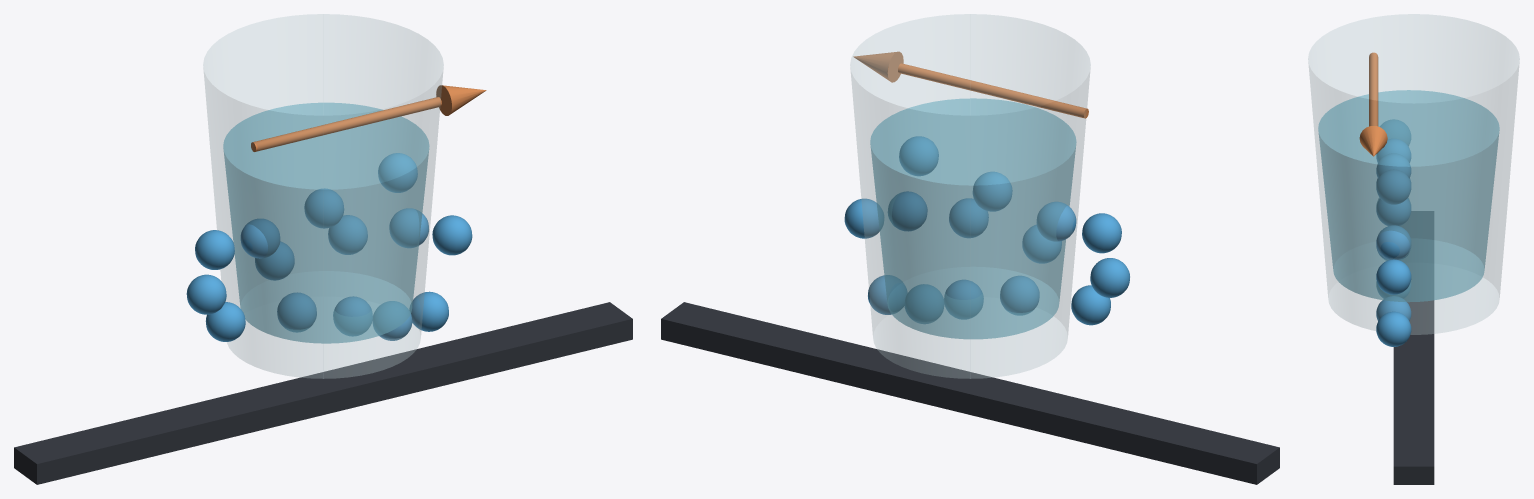
The model's file is chem-states-liquid.glb.
3 renders of one model, left to right at view 1: azimuth 30°, elevation 25°; view 2: azimuth 150°, elevation 25°; view 3: azimuth 270°, elevation 25°, orthographic. The views are drawn at different scales.
Visible parts, largest first — view 1: liquid-container-shape-glass, liquid-container-shape-liquid, states-lab-bench, sliding-motion-flow-arrow-shaft, close-sliding-liquid-particle-9, close-sliding-liquid-particle-5, close-sliding-liquid-particle-11, close-sliding-liquid-particle-10, close-sliding-liquid-particle-12, close-sliding-liquid-particle-8, close-sliding-liquid-particle-13, close-sliding-liquid-particle-1 (+7 smaller); view 2: liquid-container-shape-glass, liquid-container-shape-liquid, states-lab-bench, sliding-motion-flow-arrow-shaft, close-sliding-liquid-particle-10, close-sliding-liquid-particle-11, close-sliding-liquid-particle-5, close-sliding-liquid-particle-13, close-sliding-liquid-particle-12, close-sliding-liquid-particle-9, close-sliding-liquid-particle-1, close-sliding-liquid-particle-8 (+7 smaller); view 3: liquid-container-shape-glass, liquid-container-shape-liquid, states-lab-bench, close-sliding-liquid-particle-4, close-sliding-liquid-particle-9, close-sliding-liquid-particle-13, close-sliding-liquid-particle-8, close-sliding-liquid-particle-7, sliding-motion-flow-arrow-shaft, sliding-motion-flow-arrow-head, close-sliding-liquid-particle-12, close-sliding-liquid-particle-3 (+2 smaller).
Boxes of the visible parts, x1,y1,x2,y2 form: liquid-container-shape-glass: (203,14,443,378); liquid-container-shape-liquid: (223,102,429,343); states-lab-bench: (14,302,632,484); sliding-motion-flow-arrow-shaft: (251,97,441,151); close-sliding-liquid-particle-9: (432,215,472,255); close-sliding-liquid-particle-5: (186,274,226,314); close-sliding-liquid-particle-11: (240,218,280,258); close-sliding-liquid-particle-10: (195,230,234,269); close-sliding-liquid-particle-12: (304,188,344,228); close-sliding-liquid-particle-8: (389,208,428,248); close-sliding-liquid-particle-13: (378,153,417,192); close-sliding-liquid-particle-1: (277,292,316,332); liquid-container-shape-glass: (850,14,1090,378); liquid-container-shape-liquid: (870,98,1076,339); states-lab-bench: (661,302,1279,484); sliding-motion-flow-arrow-shaft: (898,63,1088,118); close-sliding-liquid-particle-10: (1082,213,1121,253); close-sliding-liquid-particle-11: (1036,201,1076,241); close-sliding-liquid-particle-5: (1090,258,1129,297); close-sliding-liquid-particle-13: (899,136,938,176); close-sliding-liquid-particle-12: (972,171,1012,211); close-sliding-liquid-particle-9: (844,198,883,238); close-sliding-liquid-particle-1: (1000,275,1039,315); close-sliding-liquid-particle-8: (888,191,927,231); liquid-container-shape-glass: (1308,14,1519,334); liquid-container-shape-liquid: (1318,90,1499,302); states-lab-bench: (1393,211,1434,484); close-sliding-liquid-particle-4: (1376,311,1411,346); close-sliding-liquid-particle-9: (1376,259,1411,294); close-sliding-liquid-particle-13: (1376,169,1411,204); close-sliding-liquid-particle-8: (1376,225,1411,259); close-sliding-liquid-particle-7: (1376,198,1411,225); sliding-motion-flow-arrow-shaft: (1369,52,1378,126); sliding-motion-flow-arrow-head: (1359,126,1387,156); close-sliding-liquid-particle-12: (1376,153,1411,178); close-sliding-liquid-particle-3: (1376,296,1411,321).
Size of what is drawn, in the model's own units: 2.4 by 1.3 by 0.84.
